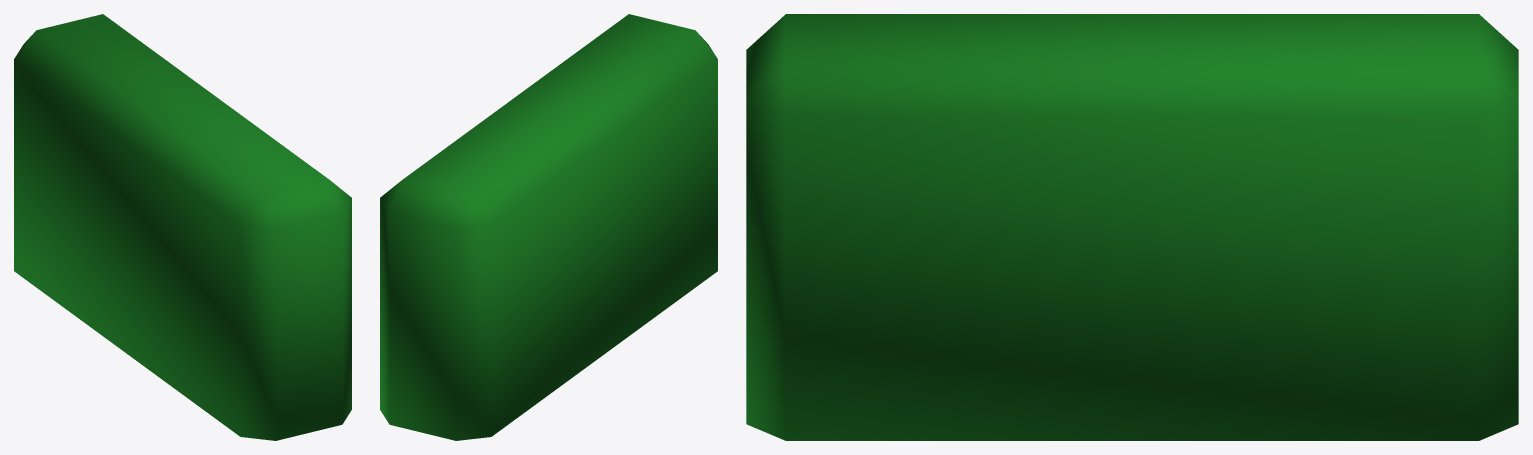
File: cal.fbx
3 renders of one model, left to right at view 1: azimuth 30°, elevation 25°; view 2: azimuth 150°, elevation 25°; view 3: azimuth 270°, elevation 25°, orthographic. The views are drawn at different scales.
Parts seen in each view (by area): view 1: Cube.005; view 2: Cube.005; view 3: Cube.005.
Part boxes in pixels (bbox=[...]): Cube.005: bbox=[14, 14, 351, 440]; Cube.005: bbox=[380, 14, 717, 440]; Cube.005: bbox=[746, 14, 1518, 440].
Bounding box in the file's own units: 675 × 1379 × 2648.
